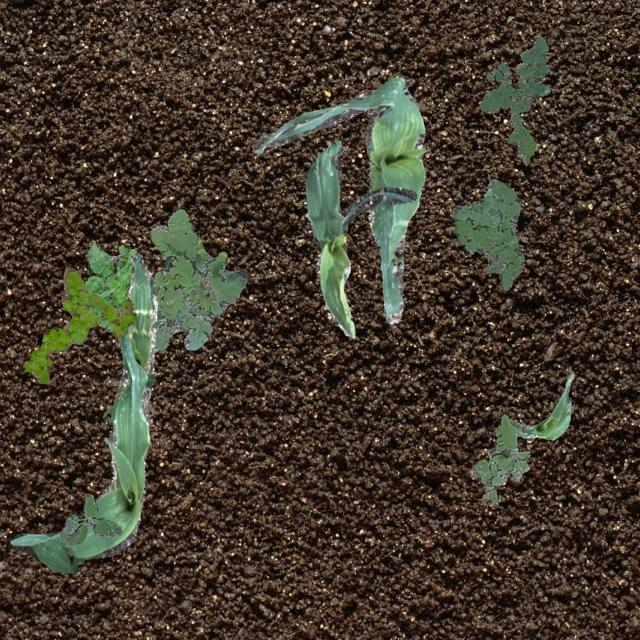crop: (10, 252, 156, 572), (252, 75, 426, 322), (304, 140, 416, 336), (508, 372, 572, 438)
weed: (150, 208, 248, 352), (22, 266, 134, 382), (478, 36, 550, 165), (449, 178, 524, 288), (468, 412, 530, 504), (84, 242, 134, 332), (58, 492, 122, 546)
